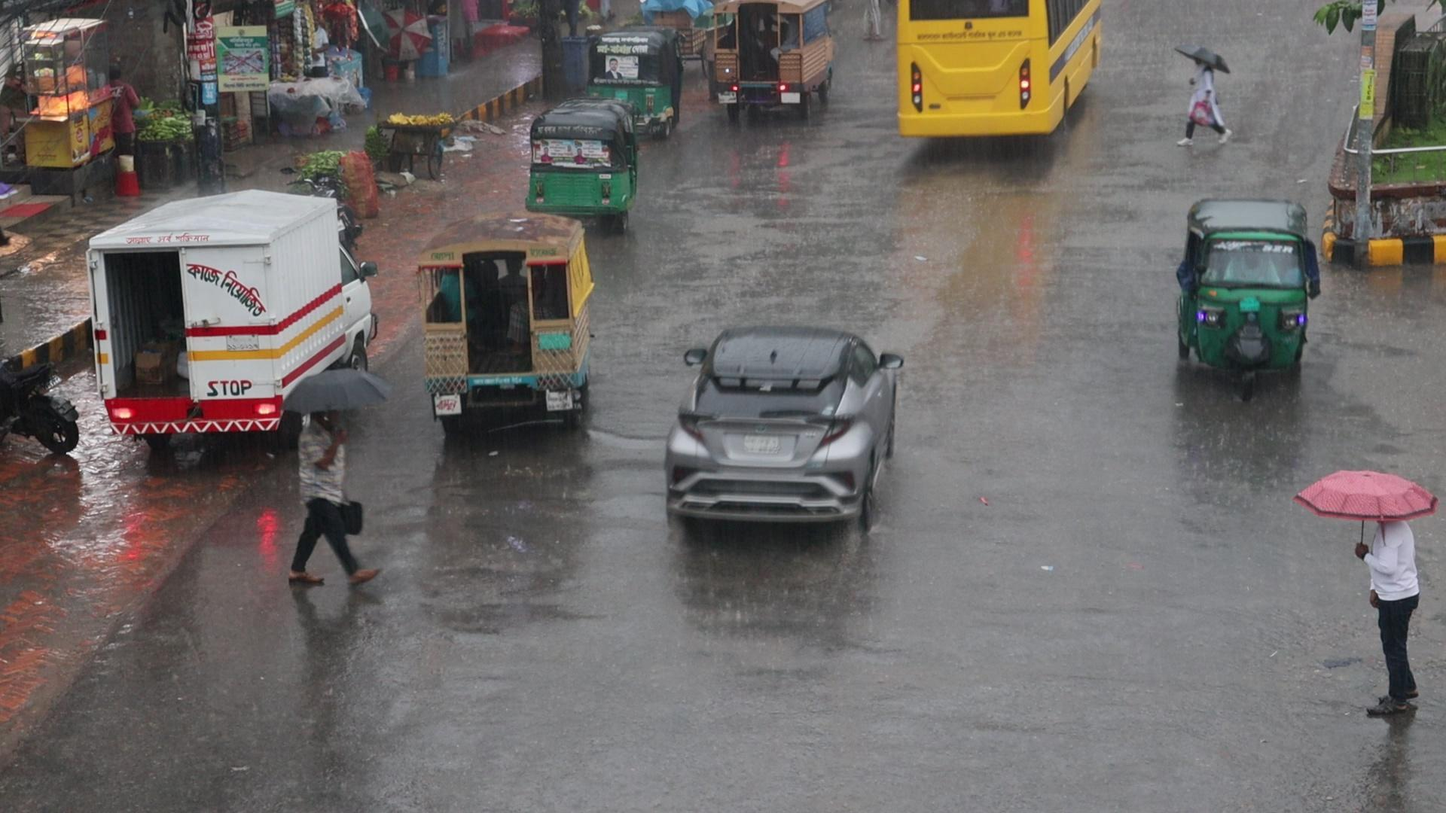Bus: (895, 2, 1104, 140)
Car: (663, 319, 903, 543)
Truck: (415, 208, 595, 431), (712, 1, 836, 117)
